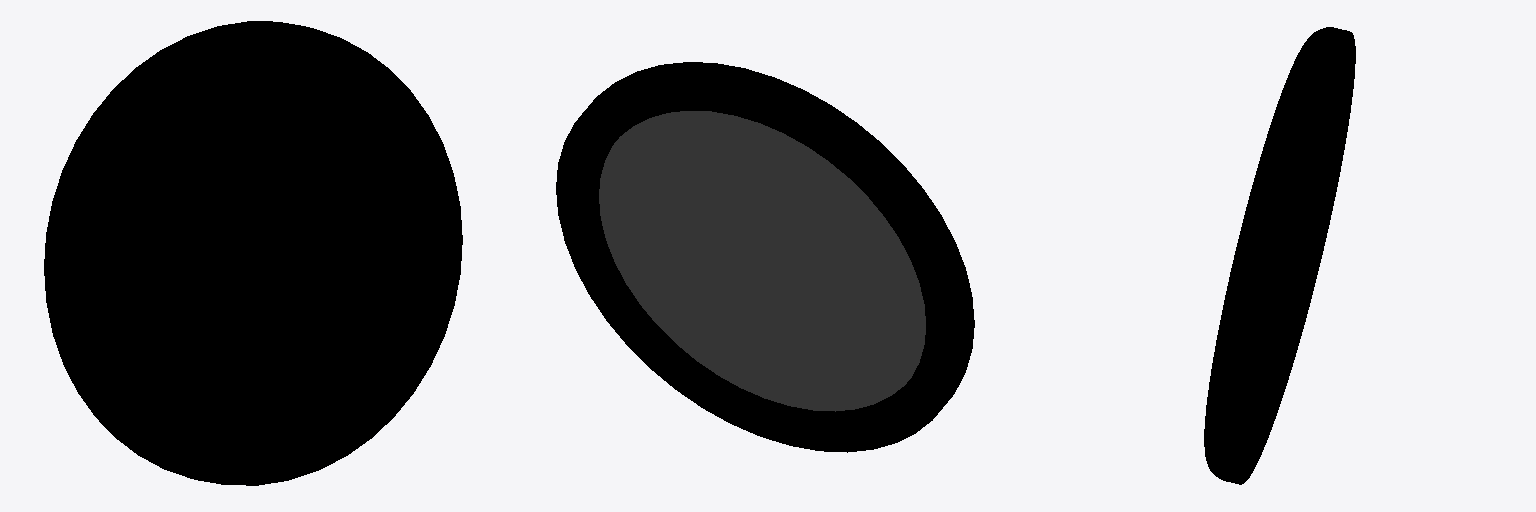
3 views of the same model, side by side, from view 1: azimuth 30°, elevation 25°; view 2: azimuth 150°, elevation 25°; view 3: azimuth 270°, elevation 25° (orthographic).
Visible parts, largest first — view 1: Circle23, Loft05; view 2: Circle10, Loft05; view 3: Loft05, Circle23.
Part boxes in pixels (x1,y1,x2,y2): Circle23: (97,68,426,443); Loft05: (44,21,462,485); Circle10: (599,111,925,411); Loft05: (556,62,974,452); Loft05: (1204,27,1355,484); Circle23: (1221,70,1310,431).
Bounding box in the file's own units: 456 × 445 × 148.